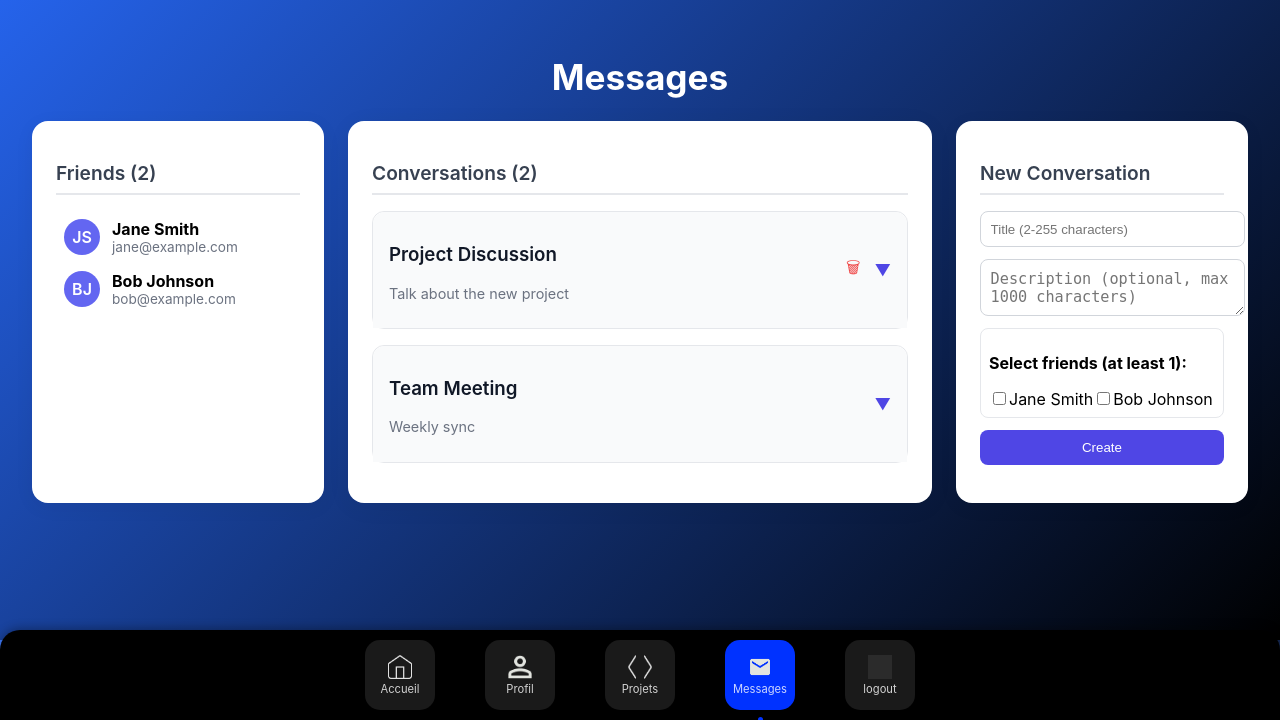
Test: Messages Component › Gestion des conversations › ouvre et ferme une conversation au clic
This screenshot has width=1280, height=720.
What coordinates should you click on to do the following:
click the heading "Project Discussion"
I would click on:
 (479, 255)
Its box is [389,243,569,266].
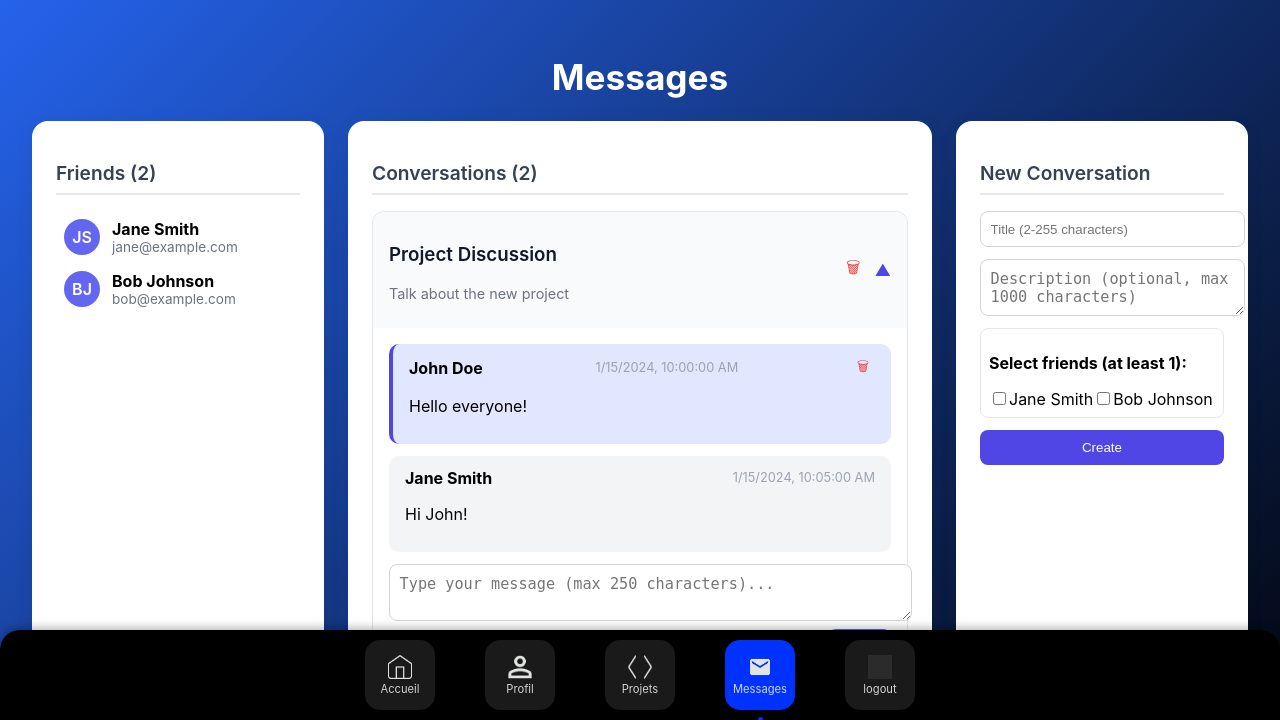
Expected: the text "Hello everyone!" is shown, [409,396,527,416]
Expected: the text "Hi John!" is shown, [405,504,468,524]
What coordinates should you click on to do the following:
click the heading "Project Discussion"
I would click on:
 (479, 255)
Its box is [389,243,569,266].
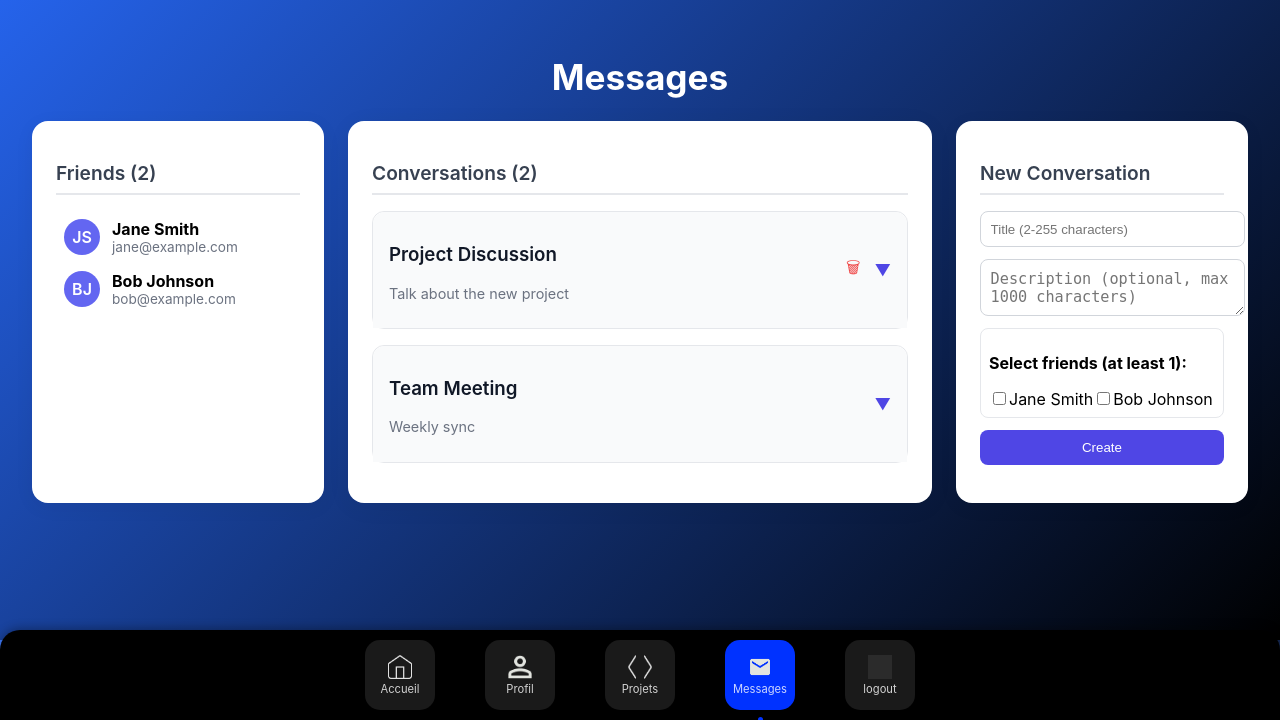
Expected: the text "Hello everyone!" is gone
